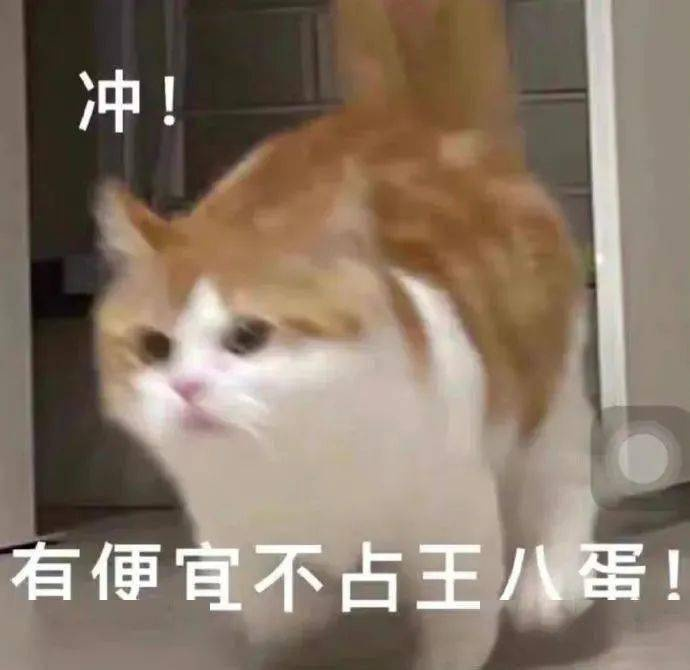cat: (88, 1, 603, 667)
